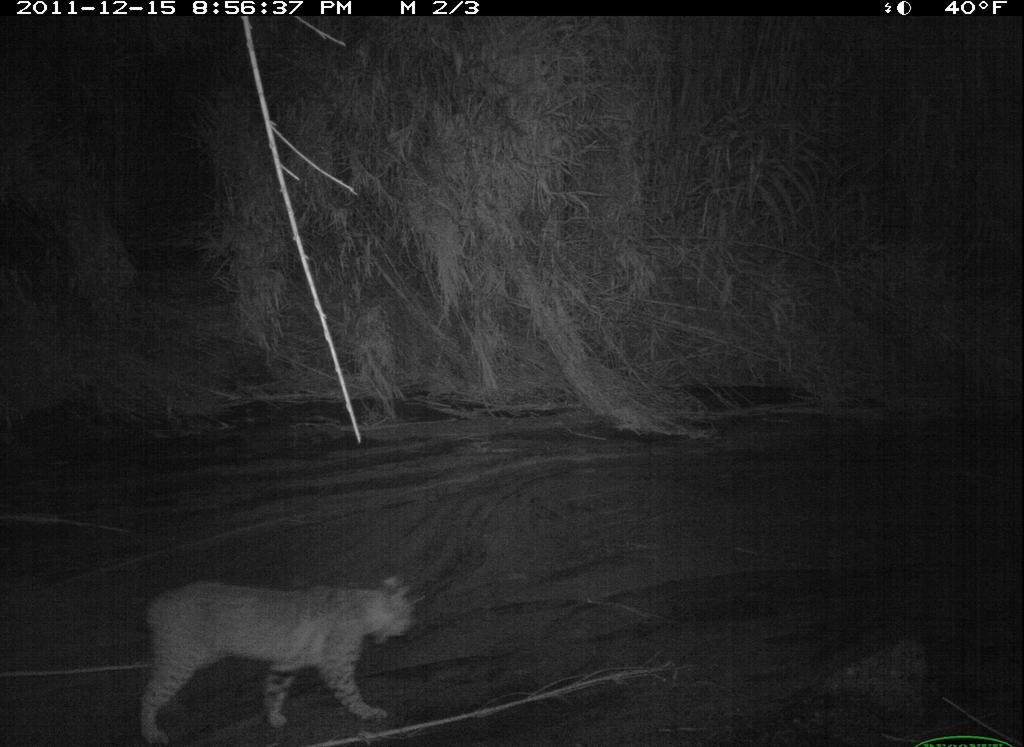bobcat: (130, 561, 427, 747)
